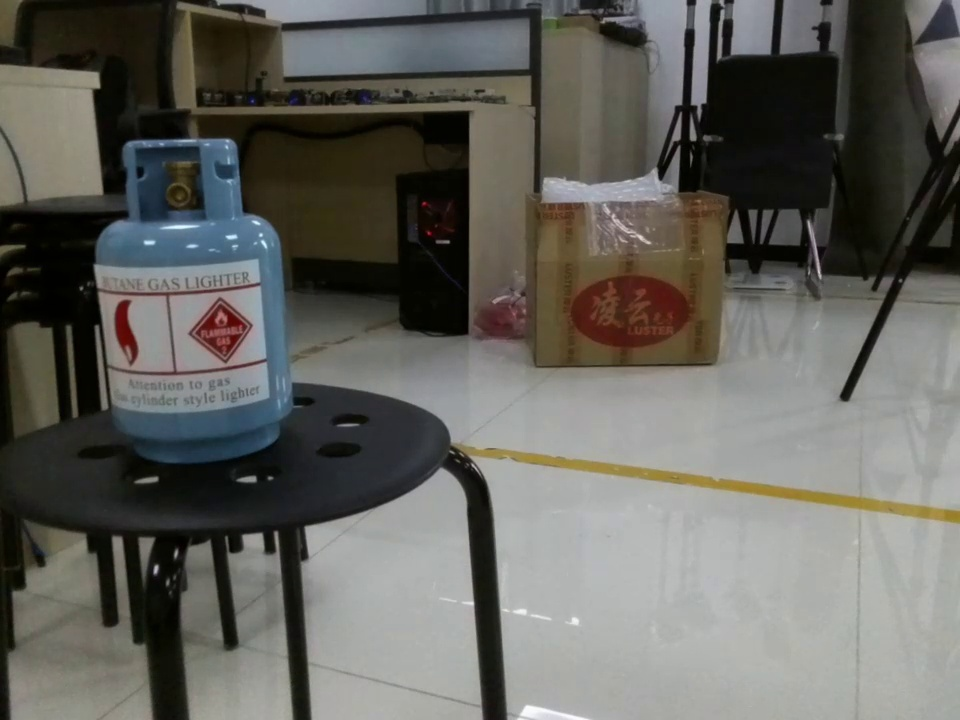gas tank: (86, 130, 308, 474)
